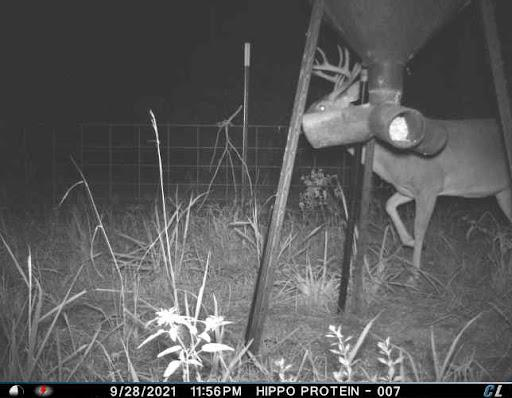Deer: (302, 42, 512, 290)
